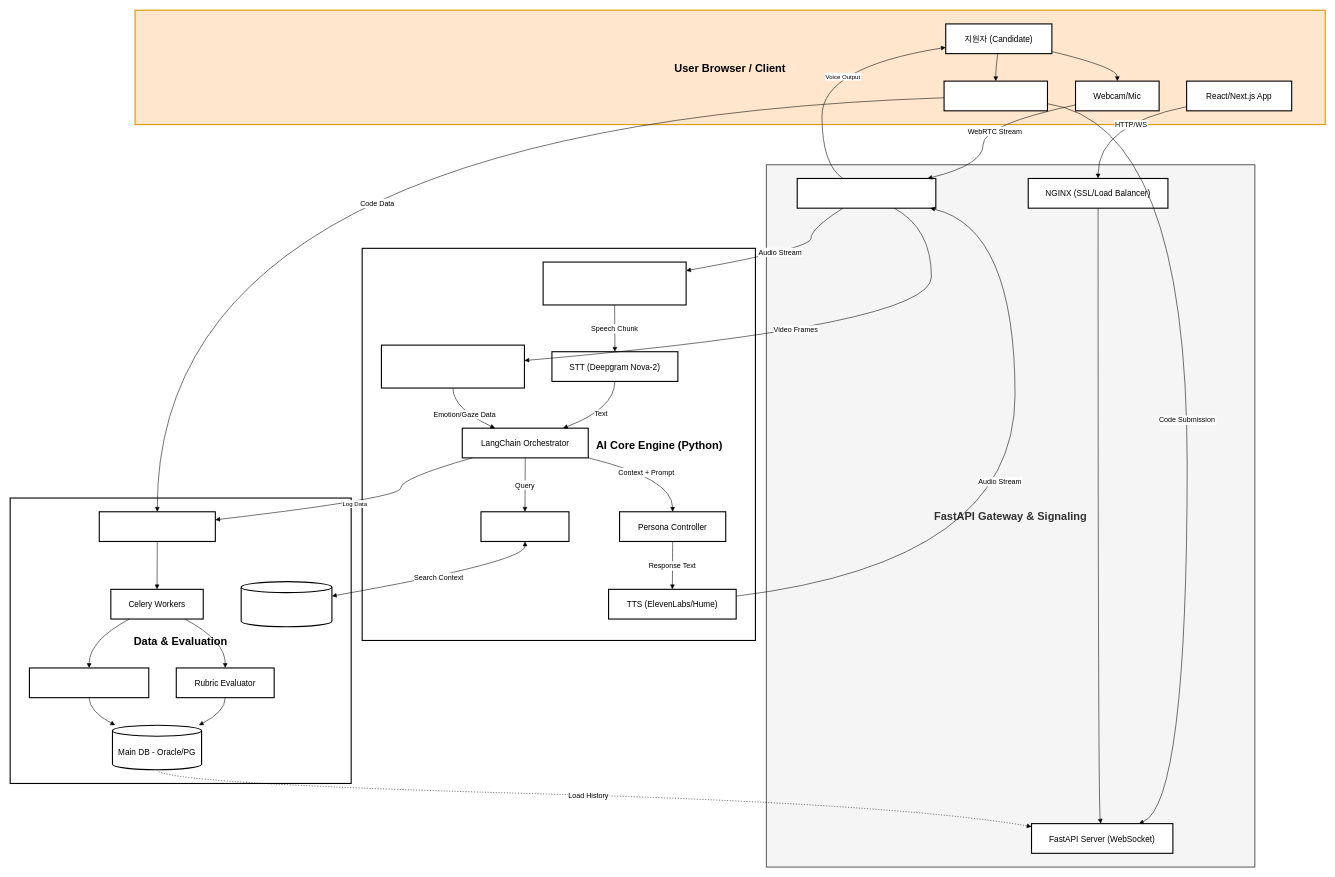
This 1335x877 diagram has some shape labels left out. The shapes that lost their labels are listed below. From the top down, each one's centre as x and y in pixels, then its label:
At (x=995, y=95): "Web IDE (Monaco)".
At (x=866, y=193): "Media Server (LiveKit/SFU)".
At (x=614, y=283): "VAD (Voice Activity Detection)".
At (x=453, y=366): "Vision AI (DeepFace/OpenCV)".
At (x=157, y=526): "Redis (Cache/Queue)".
At (x=524, y=526): "RAG Retriever".
At (x=286, y=604): "Vector DB - Pinecone".
At (x=89, y=682): "PDF Report Generator".
